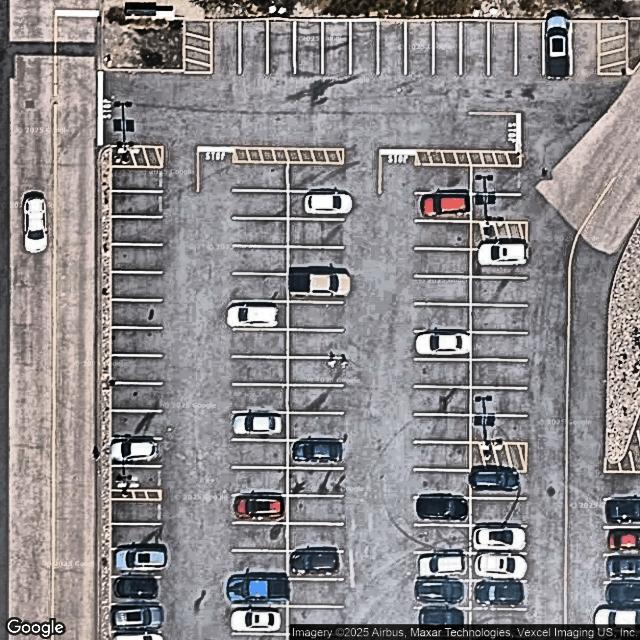car: (227, 573, 290, 605), (288, 268, 352, 299), (544, 9, 570, 79), (473, 577, 525, 606), (593, 608, 640, 640), (231, 492, 284, 520), (289, 547, 339, 576), (227, 302, 278, 329), (415, 577, 464, 605), (420, 191, 472, 217), (478, 241, 529, 266), (417, 495, 468, 520), (294, 439, 344, 464), (417, 333, 471, 356), (476, 554, 527, 578), (305, 191, 353, 216), (113, 607, 163, 631), (417, 607, 467, 631), (475, 528, 528, 550), (232, 413, 282, 436), (470, 468, 520, 491), (231, 609, 283, 631), (417, 555, 466, 577), (116, 549, 168, 569), (111, 439, 158, 461), (603, 498, 640, 525), (114, 577, 158, 599), (604, 555, 640, 580), (606, 580, 640, 605), (606, 529, 640, 553)
lot_boundary: (103, 20, 639, 639)
objects: (472, 221, 527, 249), (234, 149, 344, 163), (418, 152, 521, 165), (471, 444, 525, 468), (110, 489, 162, 500)
stall: (350, 20, 379, 76), (377, 20, 406, 76), (433, 21, 462, 76), (460, 22, 489, 77), (488, 21, 517, 76), (267, 20, 296, 75), (516, 20, 545, 75), (405, 20, 433, 76), (294, 20, 322, 76), (232, 190, 288, 218), (232, 218, 288, 246), (288, 163, 344, 191), (232, 328, 288, 356), (288, 274, 344, 302), (288, 412, 344, 440), (232, 412, 288, 440), (288, 385, 344, 413), (232, 384, 288, 412), (288, 524, 344, 552), (232, 522, 288, 550), (288, 496, 344, 524), (232, 468, 288, 496), (288, 440, 344, 468), (286, 578, 342, 606), (232, 579, 288, 607), (472, 249, 528, 277), (472, 305, 528, 333), (414, 498, 470, 526), (470, 610, 526, 638), (110, 216, 166, 244), (112, 300, 168, 328), (240, 19, 268, 74), (323, 20, 351, 75), (212, 20, 240, 75), (571, 22, 599, 77), (544, 21, 572, 76), (289, 191, 344, 219), (288, 219, 343, 247), (232, 246, 287, 274), (232, 274, 287, 302), (232, 302, 287, 330), (288, 302, 343, 330), (232, 164, 287, 192), (232, 357, 287, 385), (288, 330, 343, 358), (288, 246, 343, 274), (233, 440, 288, 468), (288, 358, 343, 386), (232, 551, 287, 579), (233, 495, 288, 523), (288, 468, 343, 496), (288, 606, 343, 634), (232, 607, 287, 635), (288, 552, 343, 580), (416, 304, 471, 332), (472, 277, 527, 305), (415, 278, 470, 306), (415, 193, 470, 221), (471, 194, 526, 222), (416, 221, 471, 249), (472, 414, 527, 442), (416, 414, 471, 442), (416, 166, 471, 194), (415, 248, 470, 276), (472, 388, 527, 416), (415, 386, 470, 414), (472, 360, 527, 388), (416, 359, 471, 387), (472, 332, 527, 360), (415, 331, 470, 359), (471, 166, 526, 194), (415, 554, 470, 582), (472, 526, 527, 554), (416, 525, 471, 553), (471, 498, 526, 526), (471, 470, 526, 498), (415, 470, 470, 498), (415, 442, 470, 470), (112, 410, 167, 438), (111, 384, 166, 412), (112, 356, 167, 384), (112, 328, 167, 356), (415, 608, 470, 636), (471, 580, 526, 608), (415, 582, 470, 610), (471, 554, 526, 582), (112, 438, 167, 466), (112, 191, 167, 219), (111, 244, 166, 272), (112, 272, 167, 300), (112, 577, 164, 606), (113, 549, 166, 577), (111, 604, 164, 631), (112, 523, 166, 549), (112, 500, 166, 524), (111, 168, 165, 191), (113, 467, 166, 489), (607, 607, 640, 639), (604, 553, 640, 582), (605, 500, 640, 528), (604, 472, 640, 497), (606, 528, 640, 554), (606, 581, 640, 607)
